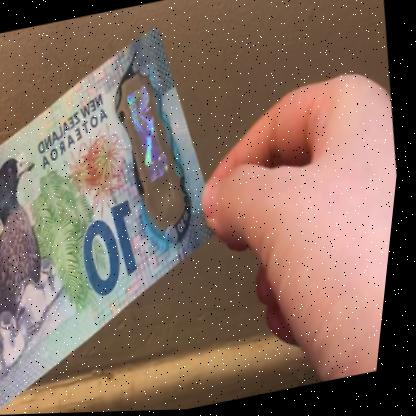10F: (116, 76, 187, 202)
